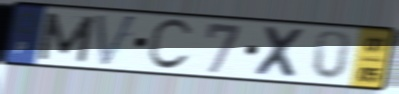0: (310, 29, 354, 83)
7: (202, 20, 245, 76)
C: (144, 17, 196, 73)
M: (35, 10, 98, 64)
V: (93, 12, 140, 70)
X: (251, 24, 310, 81)
